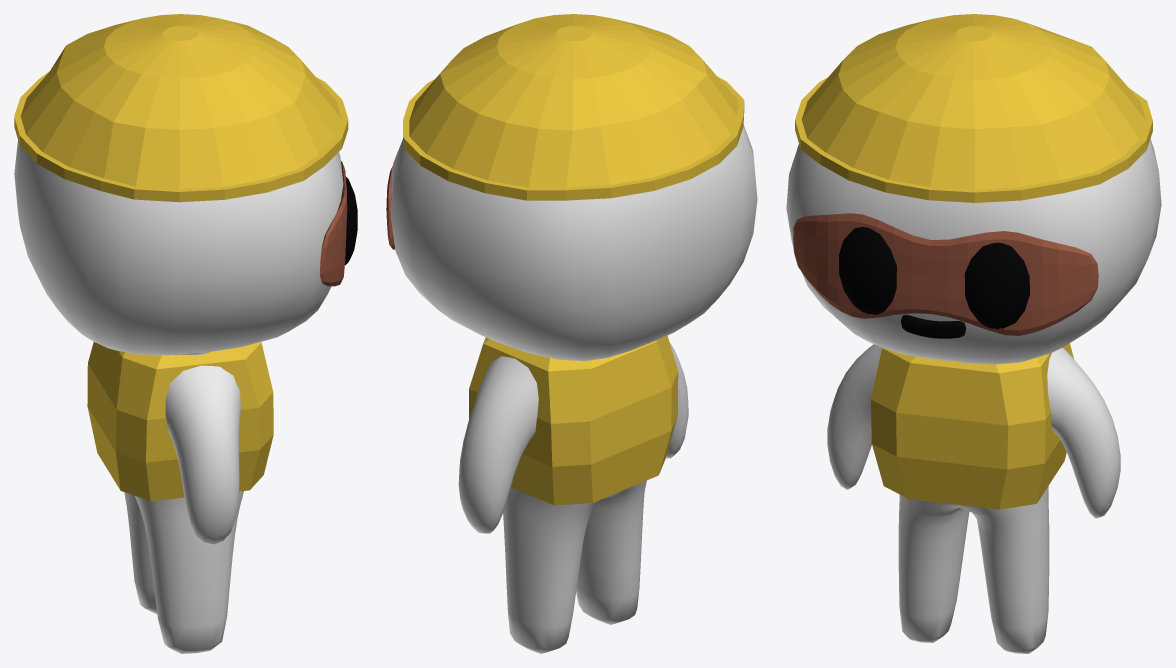
File: Ladrão 2.fbx
3 views of the same model, side by side, from view 1: azimuth 30°, elevation 25°; view 2: azimuth 150°, elevation 25°; view 3: azimuth 270°, elevation 25° (orthographic). The views are drawn at different scales.
Visible parts, largest first — view 1: Boneco.006, Circle.002, Cube.016, Plane.009, Olhos.006; view 2: Boneco.006, Circle.002, Cube.016; view 3: Boneco.006, Circle.002, Cube.016, Plane.009, Olhos.006, Boca.006.
Boxes of the visible parts, x1,y1,x2,y2 form: Boneco.006: (14, 140, 343, 653); Circle.002: (14, 14, 348, 202); Cube.016: (87, 342, 273, 501); Plane.009: (319, 161, 347, 286); Olhos.006: (345, 176, 357, 265); Boneco.006: (391, 125, 757, 653); Circle.002: (403, 14, 744, 200); Cube.016: (469, 335, 678, 505); Boneco.006: (786, 139, 1161, 653); Circle.002: (795, 14, 1152, 202); Cube.016: (871, 343, 1073, 509); Plane.009: (793, 213, 1098, 335); Olhos.006: (839, 227, 1029, 329); Boca.006: (901, 314, 966, 338).
Bounding box in the file's own units: 130 × 248 × 139.
